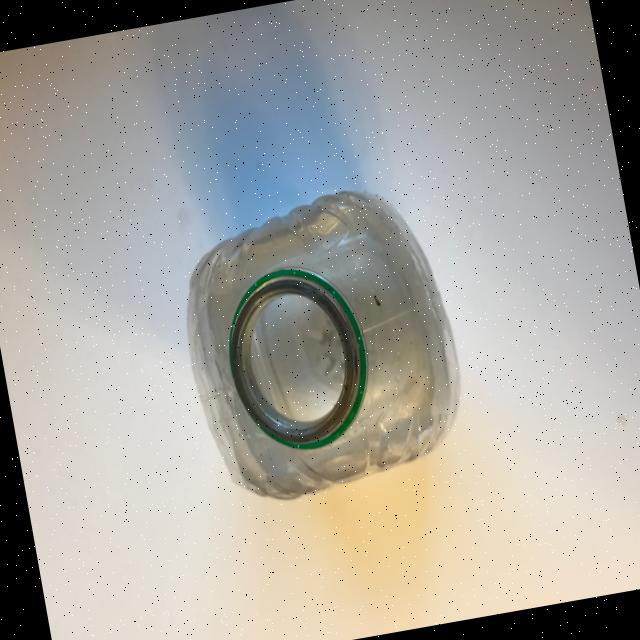plastic: (164, 174, 477, 513)
